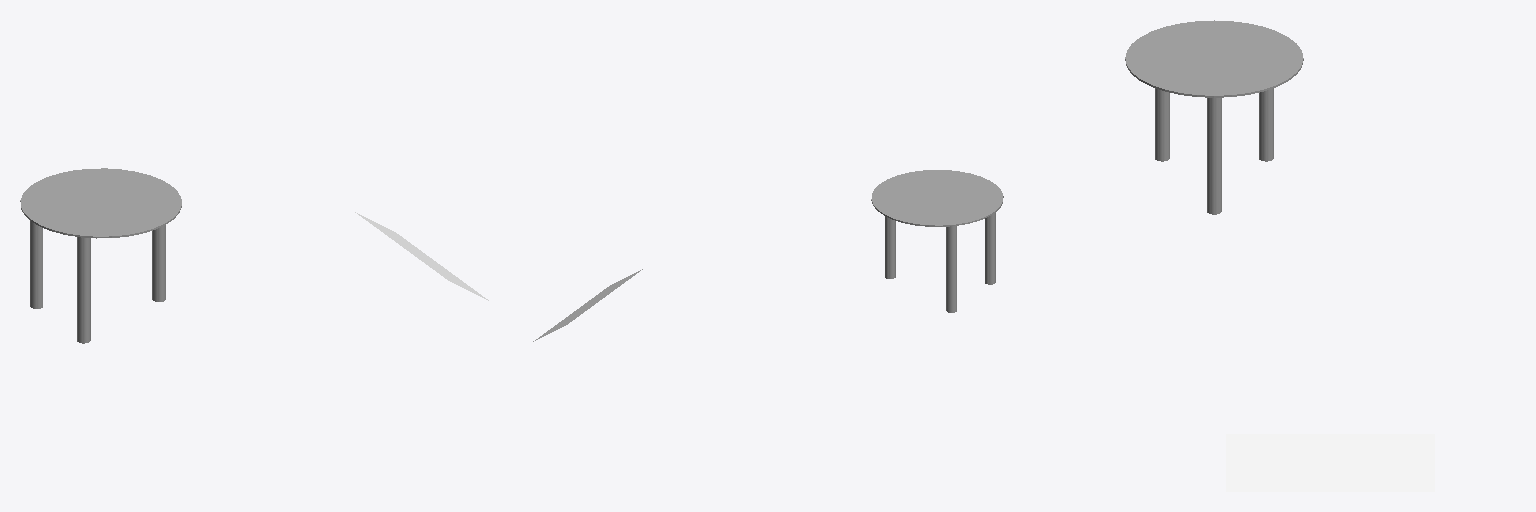
URDF robot description (tugbot):
<?xml version="1.0" ?>
<robot name="tugbot">
	<link name="base_link">
		<origin rpy="0 0 0" xyz="0 0 0"/>
		<visual>
			<origin rpy="0 0 0" xyz="0 0 0"/>
			<geometry>
				<mesh filename="package://tugbot_description/meshes/base/tugbot_simp.dae"/>
			</geometry>
		</visual>
		<visual>
			<origin rpy="0 0 0" xyz="0 0 0"/>
			<geometry>
				<mesh filename="package://tugbot_description/meshes/base/movai_logo.dae"/>
			</geometry>
			<material name="">
				<color rgba="1.0 1.0 1.0 1.0"/>
			</material>
		</visual>
		<visual>
			<origin rpy="0 1.57079632679 0" xyz="-0.1 0 0.1945"/>
			<geometry>
				<mesh filename="package://tugbot_description/meshes/base/movai-logo.png"/>
			</geometry>
			<material name="">
				<color rgba="0.0 0.0 0 1"/>
			</material>
		</visual>
		<visual name="seaos_logo_visual">
            <pose>0 0 0 0 0 0</pose>
            <geometry>
                <mesh>
                    <uri>meshes/base/seaos_logo.dae</uri>
                </mesh>
            </geometry>
            <material>
                <diffuse>1.0 1.0 1.0</diffuse>
                <pbr>
                    <metal>
                        <albedo_map>meshes/base/SEAOS_Logo.png</albedo_map>
                    </metal>
                </pbr>
            </material>
        </visual>
		<visual>
			<origin rpy="0 1.57079632679 0" xyz="-0.099 0 0.195"/>
			<geometry>
				<mesh filename="file://"/>
			</geometry>
			<material name="">
				<color rgba="1 0.5 0 0.5"/>
			</material>
		</visual> 
	</link>
	<link name="imu_link">
		<origin rpy="0 0 -1.57" xyz="0.14 0.02 0.25"/>
	</link>
	<joint name="imu_link_joint" type="fixed">
		<origin rpy="0 0 -1.57" xyz="0.14 0.02 0.25"/>
		<child link="imu_link"/>
		<parent link="base_link"/>
	</joint>

	<link name="warnign_light">
		<origin rpy="0 0 0" xyz="-0.185 0 0.46"/>
		<inertial>
			<origin rpy="0 0 0" xyz="0 0 0"/>
			<mass value="0.1"/>
			<inertia ixx="0.000016875" ixy="0" ixz="0" iyy="0.00000001" iyz="0" izz="0.000016875"/>
		</inertial>
	</link>
	<joint name="warnign_light_joint" type="fixed">
		<origin rpy="0 0 0" xyz="-0.185 0 0.46"/>
		<child link="warnign_light"/>
		<parent link="base_link"/>
		<axis xyz="0 0 1"/>
		<limit effort="1000" velocity="20.0"/>
	</joint>

	<link name="camera_front">
		<origin rpy="0 0 0" xyz="0.0553 0 0.4323"/>
	</link>
	<joint name="camera_front_joint" type="fixed">
		<origin rpy="0 0 0" xyz="0.0553 0 0.4323"/>
		<child link="camera_front"/>
		<parent link="base_link"/>
	</joint>

	<link name="camera_back">
		<origin rpy="0 0 3.141592654" xyz="-0.241 0 0.2303"/>
	</link>
	<joint name="camera_back_joint" type="fixed">
		<origin rpy="0 0 3.141592654" xyz="-0.241 0 0.2303"/>
		<child link="camera_back"/>
		<parent link="base_link"/>
	</joint>

	<link name="tugbot/scan_front/scan_front">
		<origin rpy="0 0 0" xyz="0.221 0 0.1404"/>
	</link>
	<joint name="scan_front_joint" type="fixed">
		<origin rpy="0 0 0" xyz="0.221 0 0.1404"/>
		<child link="tugbot/scan_front/scan_front"/>
		<parent link="base_link"/>
	</joint>

	<link name="tugbot/scan_back/scan_back">
		<origin rpy="0 0 3.141592654" xyz="-0.2075 0 0.205"/>
	</link>
	<joint name="scan_back_joint" type="fixed">
		<origin rpy="0 0 3.141592654" xyz="-0.2075 0 0.205"/>
		<child link="tugbot/scan_back/scan_back"/>
		<parent link="base_link"/>
	</joint>

	<link name="tugbot/scan_omni/scan_omni">
		<origin rpy="0 0 0" xyz="-0.1855 0 0.5318"/>
		<visual>
			<origin rpy="0 0 0" xyz="0 0 -0.035"/>
			<geometry>
				<cylinder radius="0.06" length="0.0015"/>
			</geometry>
		</visual>
		<visual>
			<origin rpy="0 0 0" xyz="-0.035 0.035 -0.08"/>
			<geometry>
				<cylinder radius="0.005" length="0.09"/>
			</geometry>
		</visual>
		<visual>
			<origin rpy="0 0 0" xyz="-0.035 -0.035 -0.08"/>
			<geometry>
				<cylinder radius="0.005" length="0.09"/>
			</geometry>
		</visual>
		<visual>
			<origin rpy="0 0 0" xyz="0.0495 0 -0.08"/>
			<geometry>
				<cylinder radius="0.005" length="0.09"/>
			</geometry>
		</visual>
		<visual>
			<origin rpy="0 0 0" xyz="0 0 -0.035"/>
			<geometry>
				<mesh filename="package://tugbot_description/meshes/VLP16_base_1.dae"/>
			</geometry>
		</visual>
		<visual>
			<origin rpy="0 0 0" xyz="0 0 -0.035"/>
			<geometry>
				<mesh filename="package://tugbot_description/meshes/VLP16_base_2.dae"/>
			</geometry>
		</visual>
		<visual>
			<origin rpy="0 0 0" xyz="0 0 -0.035"/>
			<geometry>
				<mesh filename="package://tugbot_description/meshes/VLP16_scan.dae"/>
			</geometry>
		</visual>
	</link>
	<joint name="scan_omni_joint" type="fixed">
		<origin rpy="0 0 0" xyz="-0.1855 0 0.5318"/>
		<child link="tugbot/scan_omni/scan_omni"/>
		<parent link="base_link"/>
	</joint>

	<!-- <link name="wheel_front">
		<origin rpy="1.570796327 0 0" xyz="0.145 0 0.0345"/>
		<inertial>
			<origin rpy="0 0 0" xyz="0 0 0"/>
			<mass value="0.1"/>
			<inertia ixx="0.0000175" ixy="0" ixz="0" iyy="0.0000175" iyz="0" izz="0.0000175"/>
		</inertial>
		<collision>
			<origin rpy="0 0 0" xyz="0 0 0"/>
			<geometry>
				<sphere radius="0.025"/>
			</geometry>
		</collision>
	</link>
	<link name="wheel_back">
		<origin rpy="1.570796327 0 0" xyz="-0.225 0 0.035"/>
		<inertial>
			<origin rpy="0 0 0" xyz="0 0 0"/>
			<mass value="0.1"/>
			<inertia ixx="0.0000175" ixy="0" ixz="0" iyy="0.0000175" iyz="0" izz="0.0000175"/>
		</inertial>
		<collision>
			<origin rpy="0 0 0" xyz="0 0 0"/>
			<geometry>
				<sphere radius="0.035"/>
			</geometry>
		</collision>
	</link> -->

	<link name="wheel_left">
		<origin rpy="-1.570796327 0 0" xyz="0 0.257 0.195"/>
		<inertial>
			<origin rpy="0 0 0" xyz="0 0 0"/>
			<mass value="0.1"/>
			<inertia ixx="0.0000175" ixy="0" ixz="0" iyy="0.0000175" iyz="0" izz="0.00003125"/>
		</inertial>
		<collision>
			<origin rpy="0 0 0" xyz="0 0 0"/>
			<geometry>
				<cylinder radius="0.195" length="0.05"/>
			</geometry>
		</collision>
		<visual>
			<origin rpy="0 0 0" xyz="0 0 -0.03"/>
			<geometry>
				<mesh filename="package://tugbot_description/meshes/wheel/wheel.dae"/>
			</geometry>
		</visual>
	</link>
	<joint name="wheel_left_joint" type="fixed">
		<origin rpy="-1.570796327 0 0" xyz="0 0.257 0.195"/>
		<child link="wheel_left"/>
		<parent link="base_link"/>
		<axis xyz="0 0 1"/>
        <limit effort="9.6" velocity="1.0"/>
		<dynamics damping="3.0" friction="0.5"/>
	</joint>

	<link name="wheel_right">
		<origin rpy="1.570796327 0 0" xyz="0 -0.257 0.195"/>
		<inertial>
			<origin rpy="0 0 0" xyz="0 0 0"/>
			<mass value="0.1"/>
			<inertia ixx="0.0000175" ixy="0" ixz="0" iyy="0.0000175" iyz="0" izz="0.00003125"/>
		</inertial>
		<collision>
			<origin rpy="0 0 0" xyz="0 0 0"/>
			<geometry>
				<cylinder radius="0.195" length="0.05"/>
			</geometry>
		</collision>
		<visual>
			<origin rpy="0 0 0" xyz="0 0 -0.03"/>
			<geometry>
				<mesh filename="package://tugbot_description/meshes/wheel/wheel.dae"/>
			</geometry>
		</visual>
	</link>
	<joint name="wheel_right_joint" type="fixed">
		<origin rpy="1.570796327 0 0" xyz="0 -0.257 0.195"/>
		<child link="wheel_right"/>
		<parent link="base_link"/>
		<axis xyz="0 0 -1"/>
        <limit effort="9.6" velocity="1.0"/>
		<dynamics damping="3.0" friction="0.5"/>
	</joint>
</robot>

--- Facts derived from the render (not from the file) ---
Views: 3 orthographic renders of the robot side by side, from view 1: azimuth 30°, elevation 25°; view 2: azimuth 150°, elevation 25°; view 3: azimuth 270°, elevation 25°.
Robot: tugbot — 10 links, 9 joints (9 fixed); root link base_link; default pose: every joint at zero.
Links seen in each view (by area): view 1: tugbot/scan_omni/scan_omni, base_link; view 2: tugbot/scan_omni/scan_omni, base_link; view 3: tugbot/scan_omni/scan_omni, base_link.
Link boxes in pixels (box(x1,y1,x2,y2)): tugbot/scan_omni/scan_omni: box(20, 168, 181, 343); base_link: box(355, 212, 488, 300); tugbot/scan_omni/scan_omni: box(871, 170, 1003, 312); base_link: box(533, 269, 642, 341); tugbot/scan_omni/scan_omni: box(1125, 20, 1303, 214); base_link: box(1226, 434, 1434, 491).
Bounding box of the posed robot: 0.3986 × 0.2082 × 0.1637 m (x, y, z).
1 mesh visuals loaded from 7 distinct referenced files (1 Collada DAE); not drawn: 7 (reference not matched to a file when rendering), 1 (reference in a form the renderer does not follow; not among the files counted above).